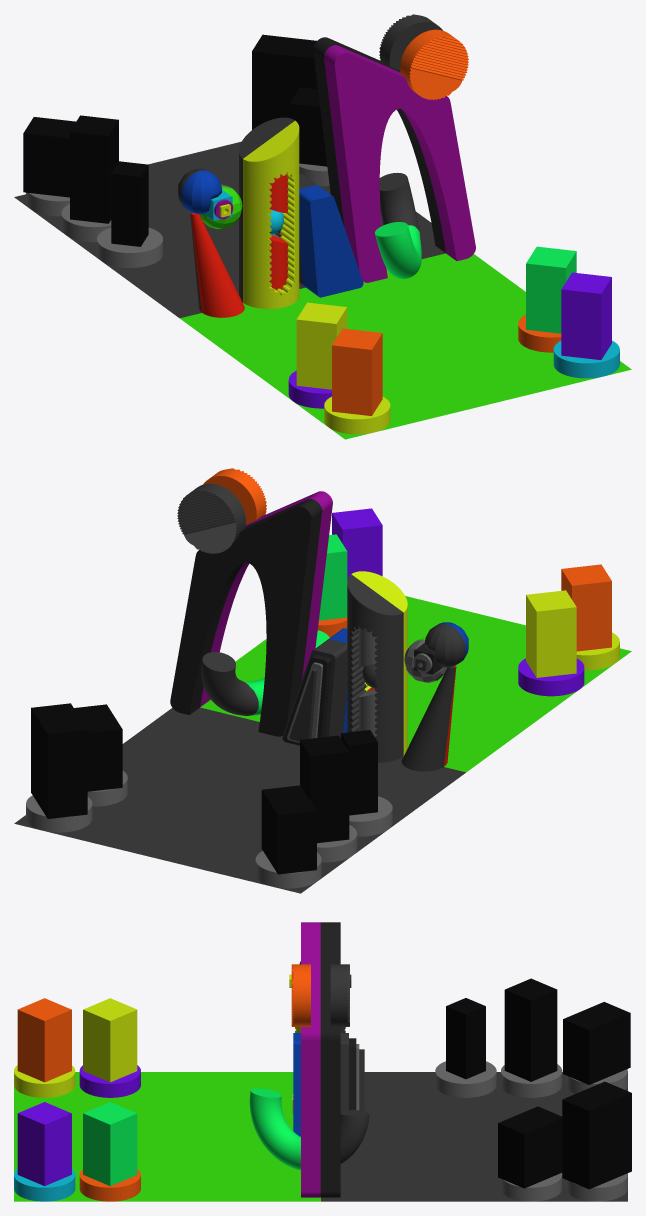
The model's file is STAND.fbx.
3 views of the same model, one above another, from view 1: azimuth 30°, elevation 25°; view 2: azimuth 150°, elevation 25°; view 3: azimuth 270°, elevation 25° (orthographic). The views are drawn at different scales.
Visible parts, largest first — view 1: STAND_object_001, STAND_object_002, STAND_object_045, STAND_object_007, STAND_object_003, STAND_object_020, STAND_object_018, STAND_object_023, STAND_object_025, STAND_object_014, STAND_object_019, STAND_object_022 (+19 smaller); view 2: STAND_object_045, STAND_object_042, STAND_object_001, STAND_object_040, STAND_object_018, STAND_object_019, STAND_object_020, STAND_object_022, STAND_object_043, STAND_object_023, STAND_object_017, STAND_object_002 (+21 smaller); view 3: STAND_object_001, STAND_object_045, STAND_object_018, STAND_object_042, STAND_object_020, STAND_object_002, STAND_object_019, STAND_object_017, STAND_object_023, STAND_object_024, STAND_object_025, STAND_object_022 (+17 smaller).
Boxes of the visible parts, <box> form: STAND_object_001: <box>180,253,631,439</box>; STAND_object_002: <box>324,45,475,282</box>; STAND_object_045: <box>14,141,445,318</box>; STAND_object_007: <box>243,120,299,308</box>; STAND_object_003: <box>299,185,363,297</box>; STAND_object_020: <box>70,115,118,223</box>; STAND_object_018: <box>252,34,317,129</box>; STAND_object_023: <box>332,328,382,415</box>; STAND_object_025: <box>561,272,611,359</box>; STAND_object_014: <box>400,29,468,99</box>; STAND_object_019: <box>23,117,75,197</box>; STAND_object_022: <box>296,302,347,389</box>; STAND_object_045: <box>14,707,465,893</box>; STAND_object_042: <box>170,499,322,736</box>; STAND_object_001: <box>200,596,631,772</box>; STAND_object_040: <box>347,574,403,762</box>; STAND_object_018: <box>31,703,87,818</box>; STAND_object_019: <box>261,785,316,874</box>; STAND_object_020: <box>300,735,349,843</box>; STAND_object_022: <box>526,590,576,677</box>; STAND_object_043: <box>177,483,245,553</box>; STAND_object_023: <box>561,564,611,651</box>; STAND_object_017: <box>74,704,122,791</box>; STAND_object_002: <box>200,491,332,706</box>; STAND_object_001: <box>14,1072,320,1201</box>; STAND_object_045: <box>321,1072,627,1201</box>; STAND_object_018: <box>562,1081,631,1189</box>; STAND_object_042: <box>320,922,340,1197</box>; STAND_object_020: <box>504,978,557,1081</box>; STAND_object_002: <box>301,922,320,1197</box>; STAND_object_019: <box>563,1002,630,1084</box>; STAND_object_017: <box>498,1106,562,1188</box>; STAND_object_023: <box>17,998,71,1082</box>; STAND_object_024: <box>83,1102,137,1186</box>; STAND_object_025: <box>17,1102,71,1185</box>; STAND_object_022: <box>83,998,137,1082</box>.
Size of the model in its own units: 3124 by 2392 by 6137.
